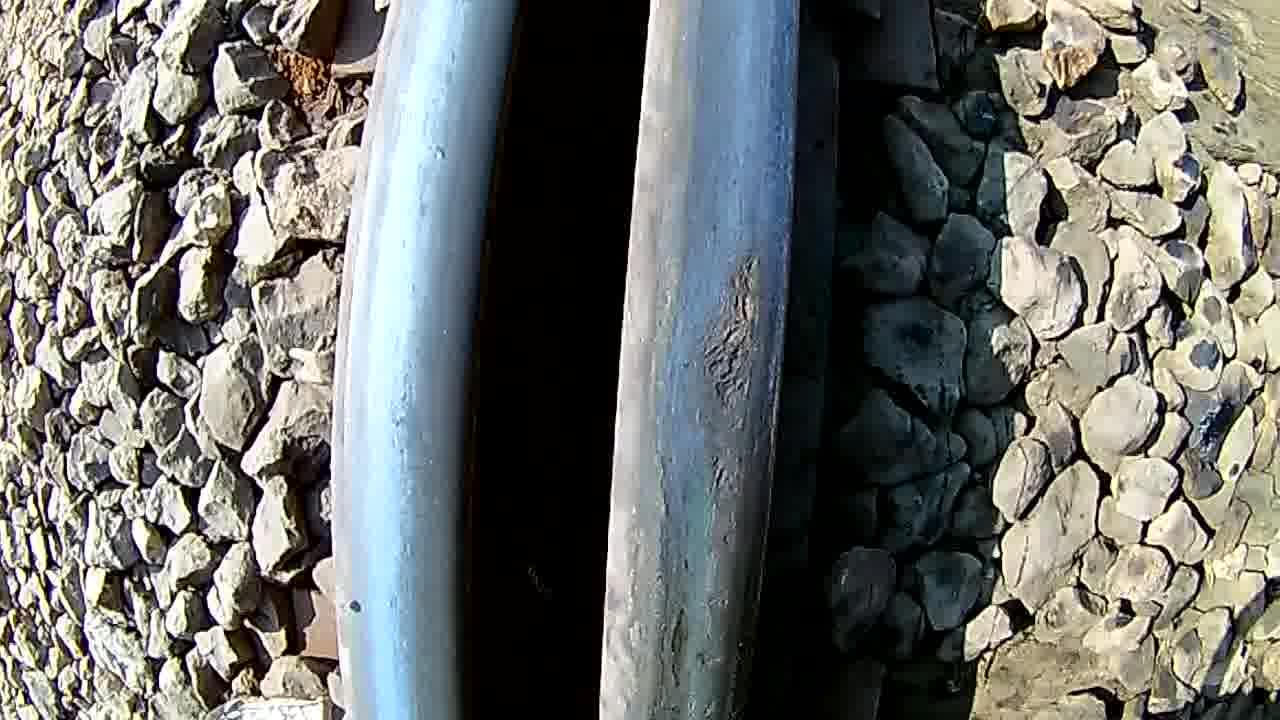crack: (612, 153, 796, 720)
